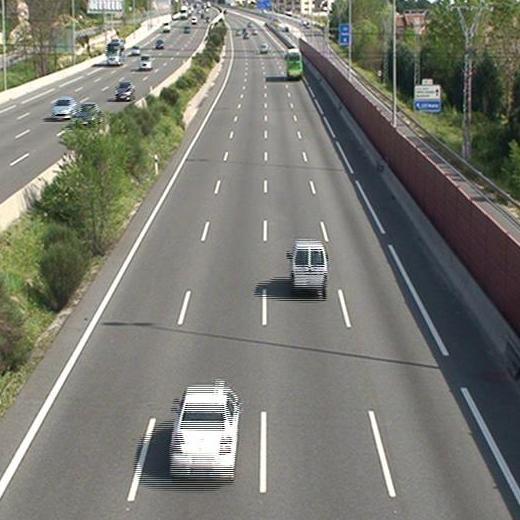bus: (286, 48, 302, 79)
car: (169, 385, 241, 477)
van: (291, 242, 327, 292)
